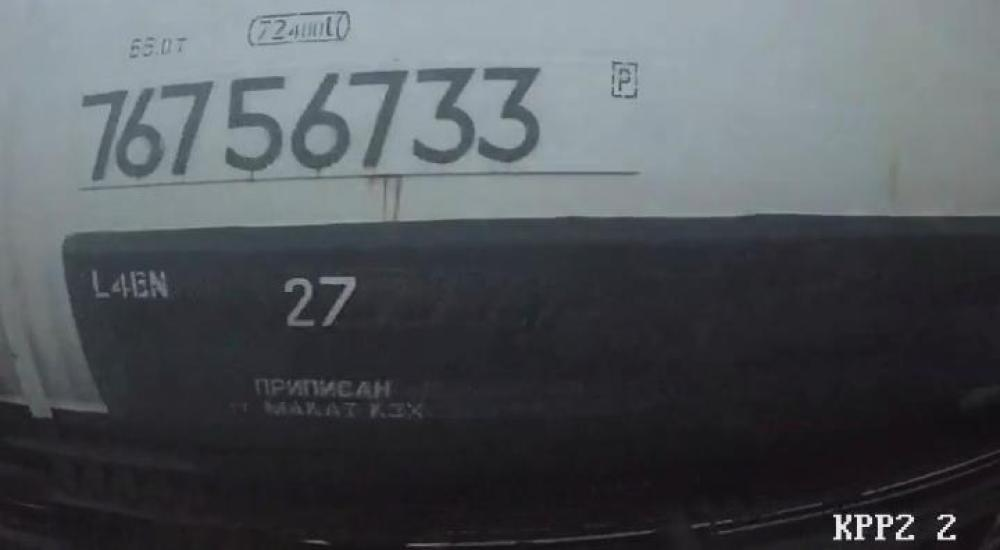Wagon-number: (75, 59, 552, 189)
